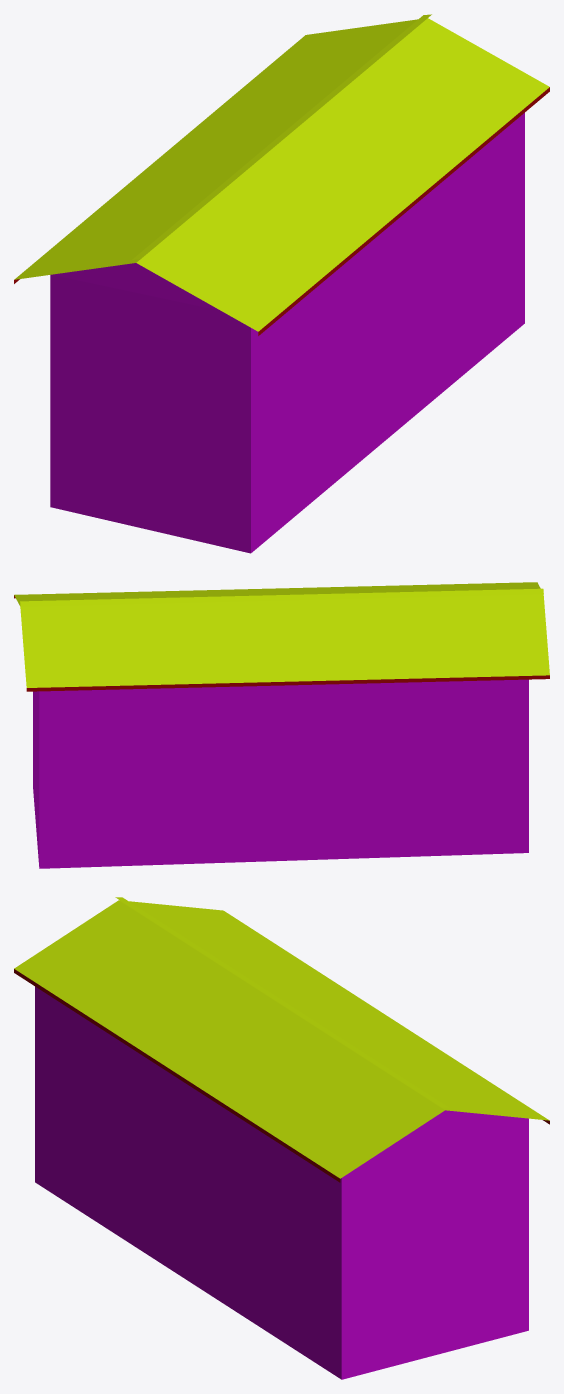
Rendered from sjs_39.glb.
3 renders of one model, top to bottom at view 1: azimuth 30°, elevation 25°; view 2: azimuth 150°, elevation 25°; view 3: azimuth 270°, elevation 25°, orthographic. The views are drawn at different scales.
Visible parts, largest first — view 1: sjs_39; view 2: sjs_39; view 3: sjs_39.
Boxes of the visible parts, <box> form: sjs_39: <box>14,14,549,553</box>; sjs_39: <box>14,582,549,868</box>; sjs_39: <box>14,897,549,1379</box>.
Size of the model in its own units: 16.63 by 7.38 by 14.04.
